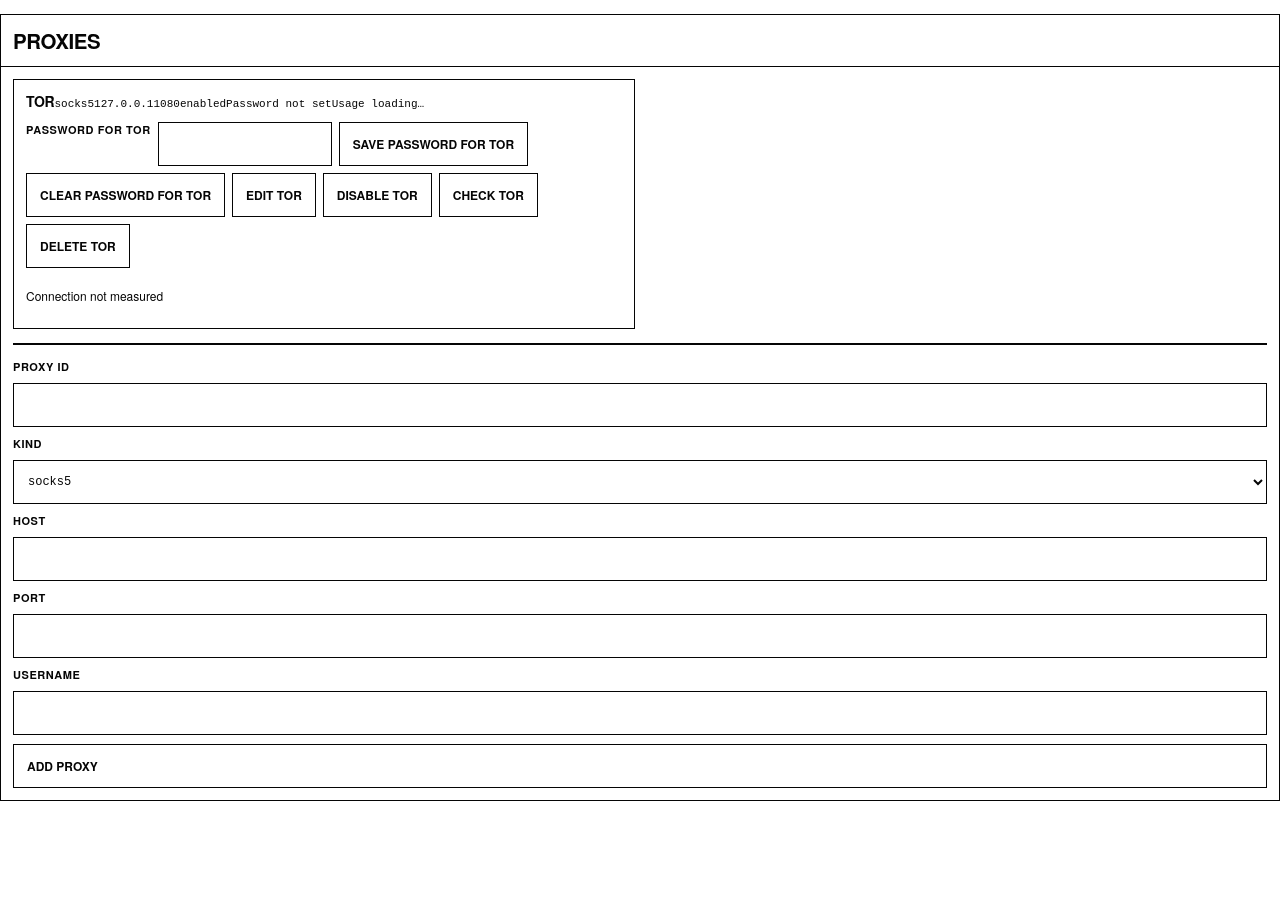
Test: ProxiesPanel lifecycle UX › shows the envelope code and message when a check is refused
This screenshot has width=1280, height=900.
Expected: the text "127.0.0.1" is shown, left=94, top=98, right=153, bottom=110
What coordinates should you click on to do the following:
click the button "Check tor"
I would click on:
 (488, 195)
Its box is left=439, top=173, right=538, bottom=217.
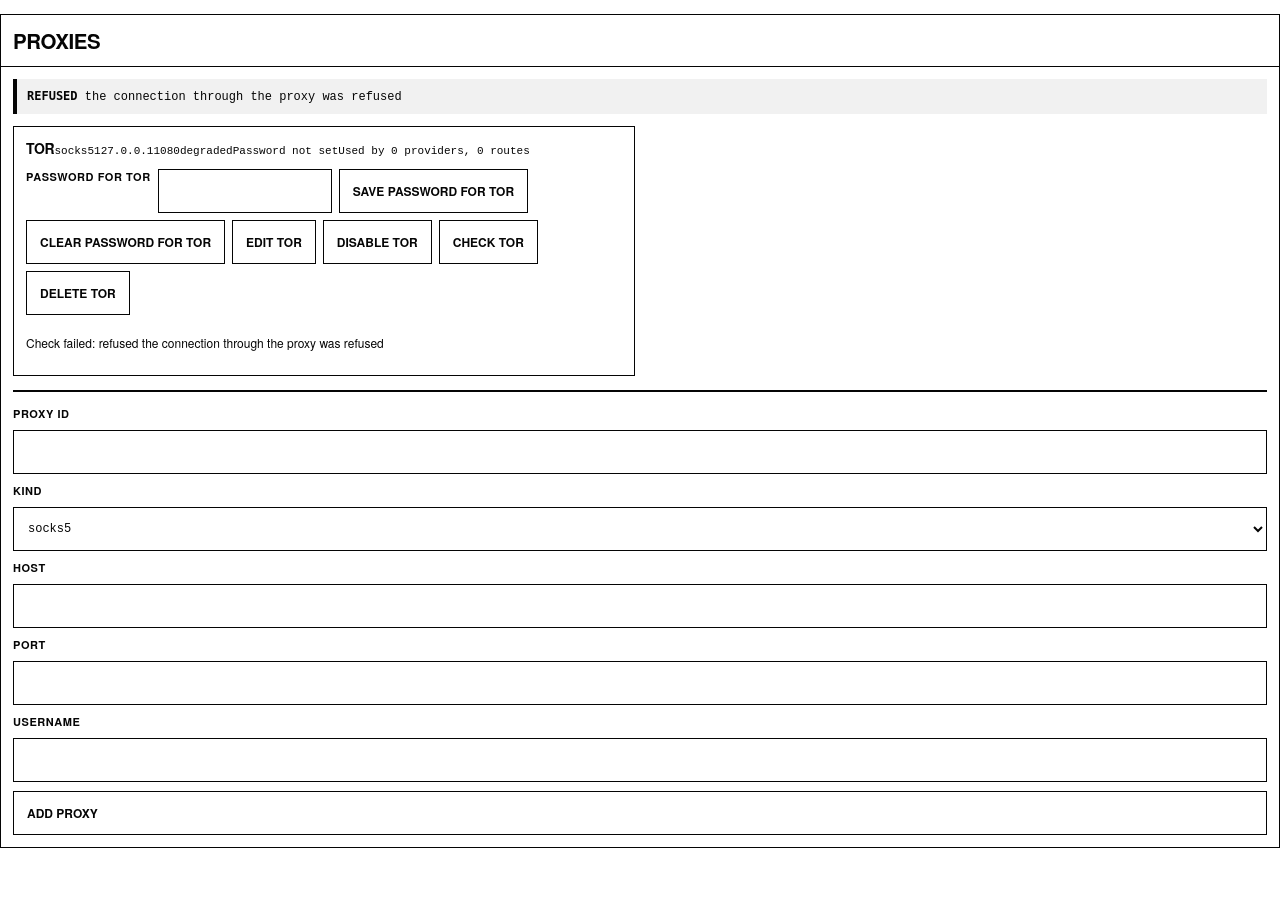
Now the text with test id "check-tor" shows "refused", box left=26, top=334, right=384, bottom=351
Now the text with test id "check-tor" shows "the connection through the proxy was refused", box left=26, top=334, right=384, bottom=351
